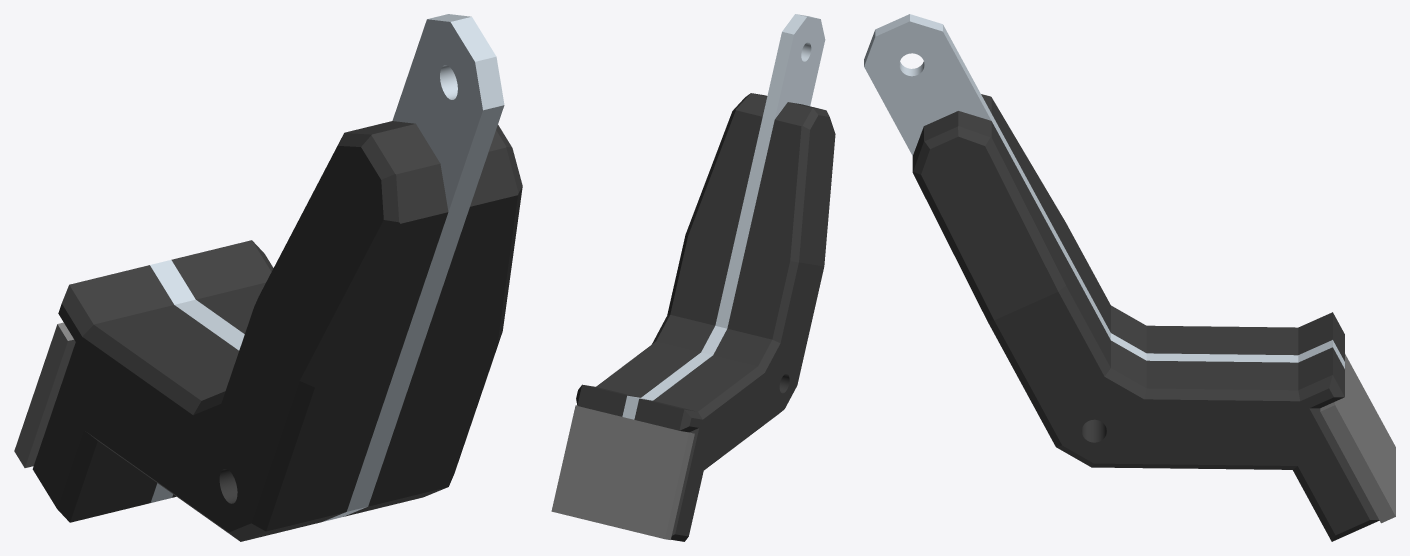
Rendered from Bottom Finger.glb.
The picture shows the model from 3 angles, left to right: view 1: azimuth 30°, elevation 25°; view 2: azimuth 150°, elevation 25°; view 3: azimuth 270°, elevation 25°; orthographic projection. The views are drawn at different scales.
Parts seen in each view (by area): view 1: Bottom Finger; view 2: Bottom Finger; view 3: Bottom Finger.
Boxes of the visible parts, x1,y1,x2,y2 form: Bottom Finger: (14, 14, 522, 541); Bottom Finger: (551, 14, 835, 541); Bottom Finger: (864, 14, 1395, 541).
Size of the model in its own units: 0.03 by 0.0989 by 0.0967.
